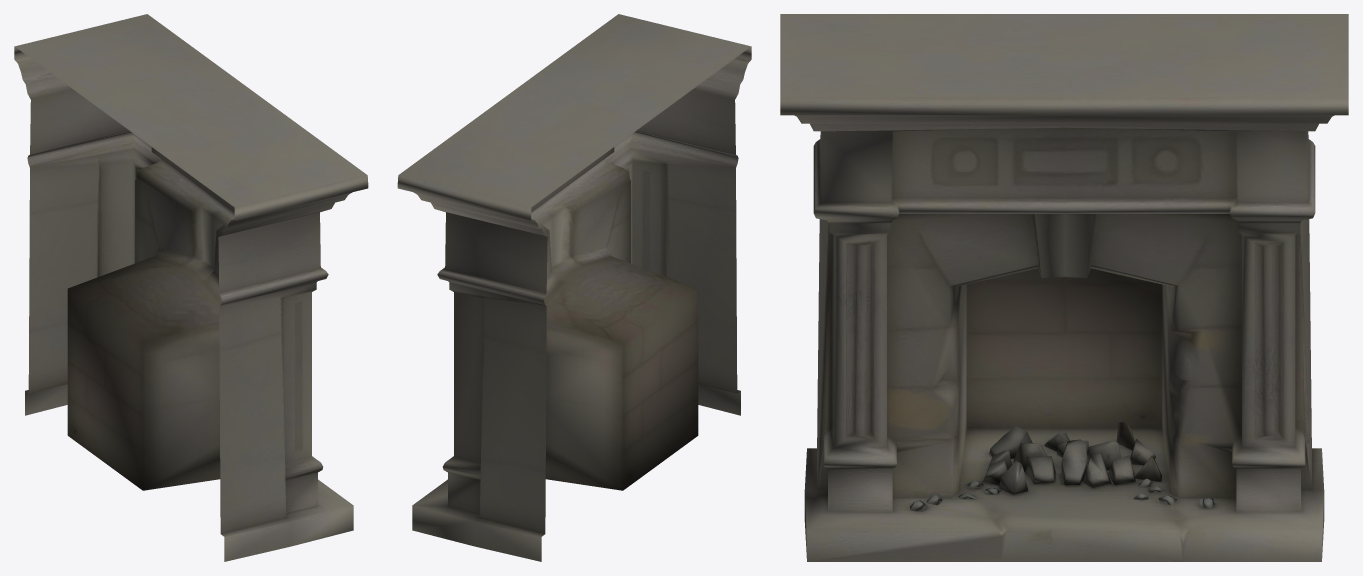
Rendered from Arch_Fireplace_Stone.fbx.
3 renders of one model, left to right at view 1: azimuth 30°, elevation 25°; view 2: azimuth 150°, elevation 25°; view 3: azimuth 270°, elevation 25°, orthographic. The views are drawn at different scales.
Parts seen in each view (by area): view 1: Arch_Fireplace_Stone._Body; view 2: Arch_Fireplace_Stone._Body; view 3: Arch_Fireplace_Stone._Body, Arch_Fireplace_Stone._Stone.
Boxes of the visible parts, bbox=[...] form: Arch_Fireplace_Stone._Body: bbox=[14, 14, 368, 561]; Arch_Fireplace_Stone._Body: bbox=[397, 14, 751, 561]; Arch_Fireplace_Stone._Body: bbox=[780, 14, 1348, 561]; Arch_Fireplace_Stone._Stone: bbox=[909, 421, 1217, 511].
Bounding box in the file's own units: 53.13 × 120 × 132.
1 material, 1 textured.
